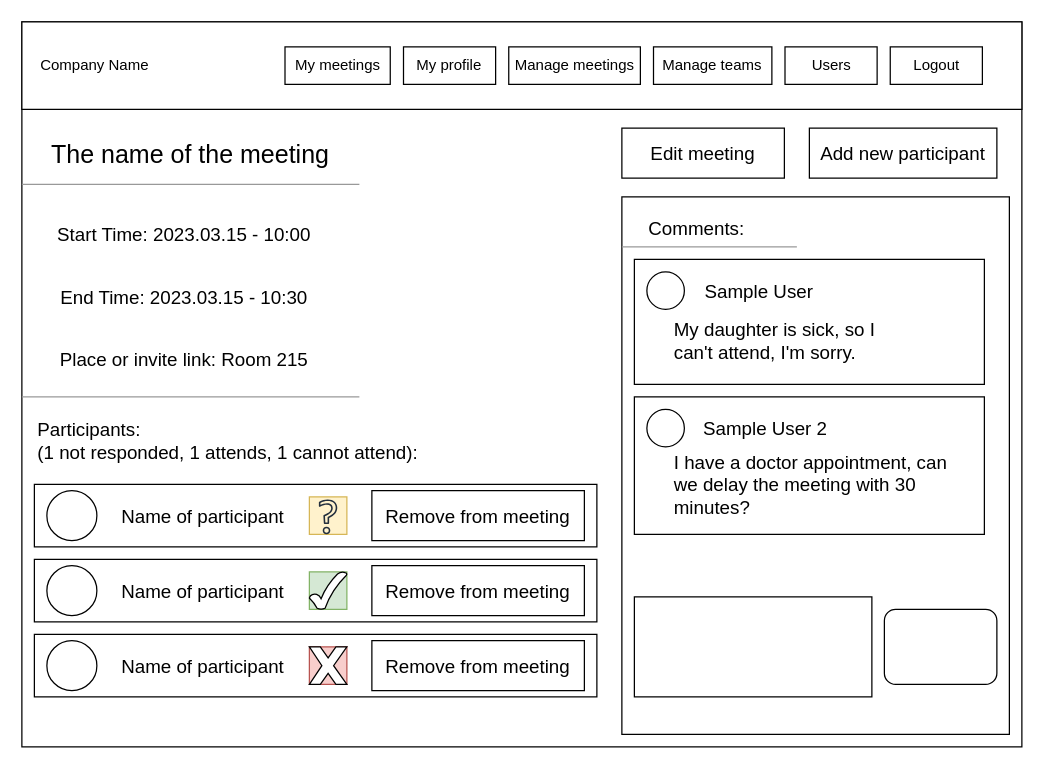
The diagram is 1044 pixels wide and 769 high, and some of its shapes have lost their labels. The shapes that lost their labels are listed below. From the top down, each one's centre as x and y in pixels, then its label:
At [752,646]: "New comment".
At [940,646]: "Send".
